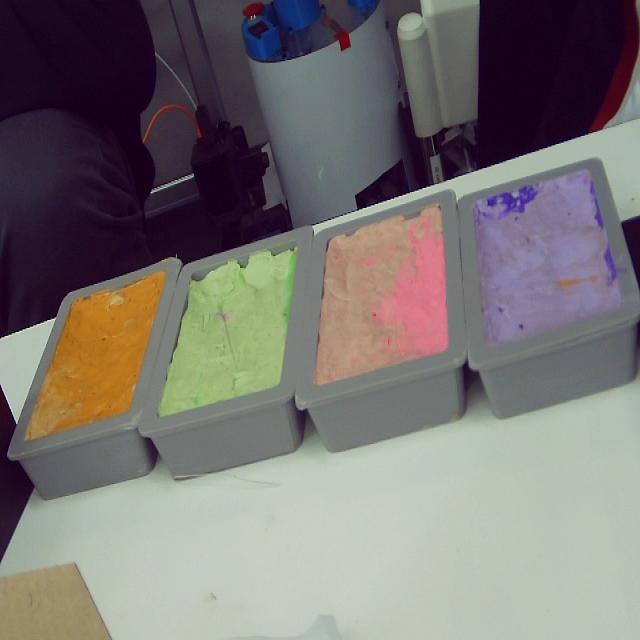block: (456, 156, 640, 419), (294, 186, 468, 450), (137, 230, 315, 477), (3, 258, 179, 498)
